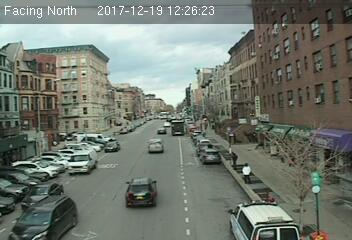car: (10, 197, 74, 240), (124, 176, 159, 207), (21, 182, 60, 209), (201, 148, 222, 165), (146, 138, 165, 154), (102, 141, 120, 152)
pedestrian: (240, 161, 253, 184)
police: (226, 196, 294, 240)
truck: (66, 148, 97, 175)
ups: (171, 121, 186, 135)
